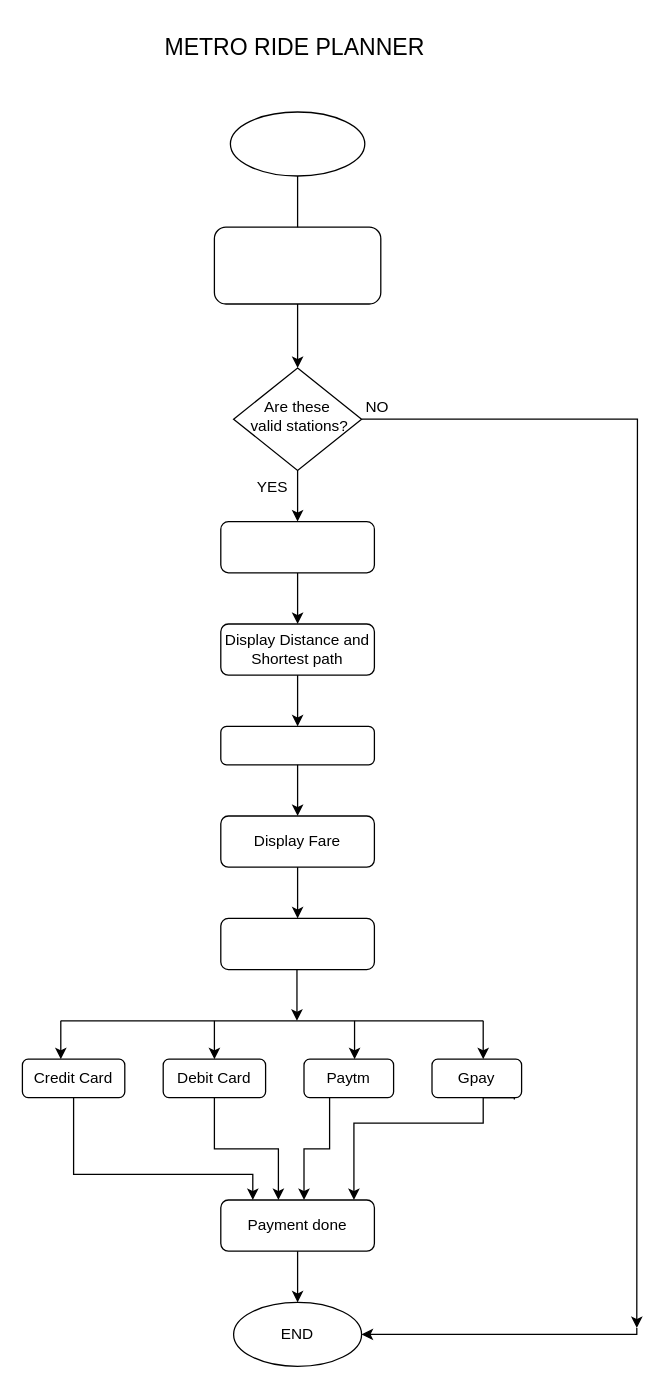
This 671x1389 diagram has some shape labels left out. The centre of each missing label's shape, as x and y in pixels:
"Calculate fare" belongs at pixel 297 745.
"Dijkstra's algo to find the shortest path" belongs at pixel 297 546.
"Enter source station and destination" belongs at pixel 297 265.
"Select Mode of Payment" belongs at pixel 297 943.
"START" belongs at pixel 297 143.
